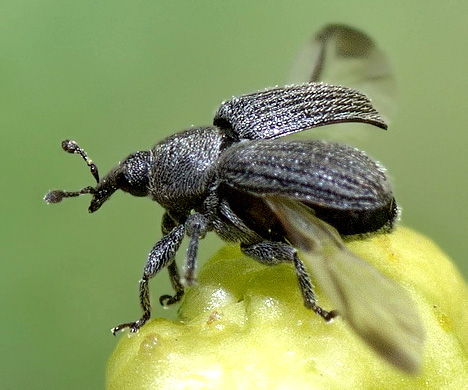dolgonosik: (49, 27, 429, 361)
